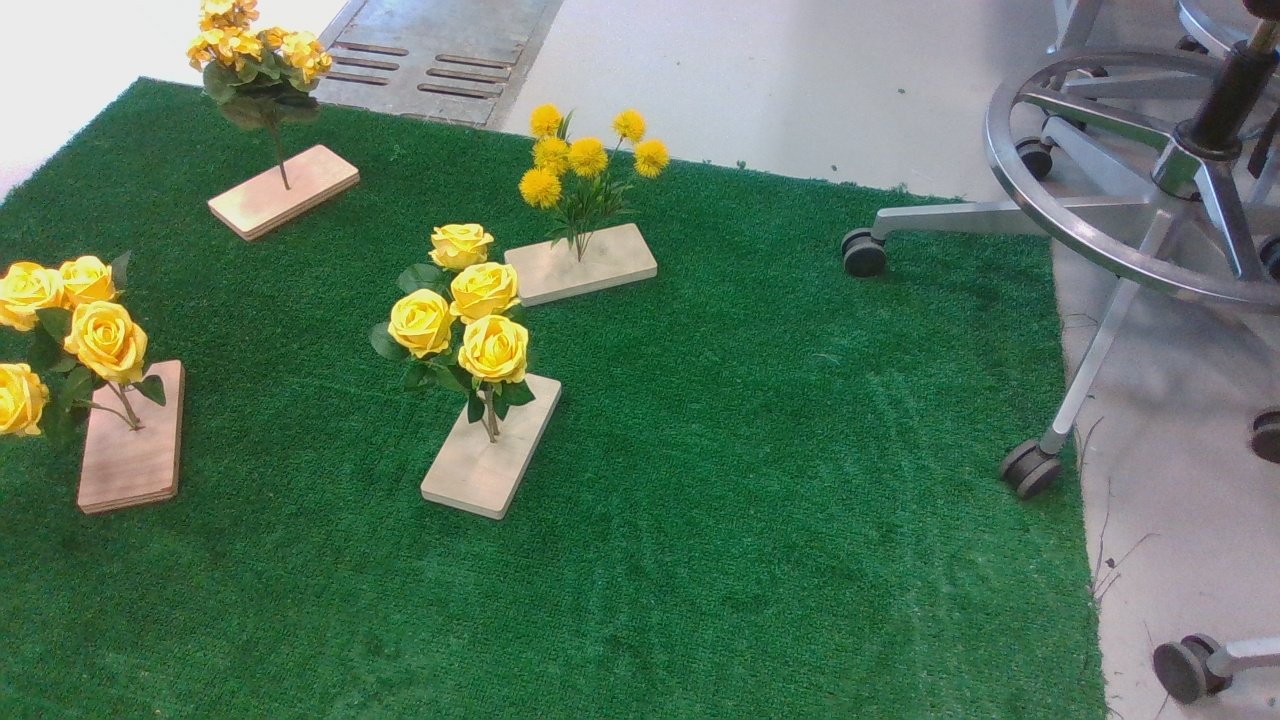dandelion: (518, 105, 678, 233)
geranium: (187, 8, 344, 146)
rose: (367, 224, 550, 446)
